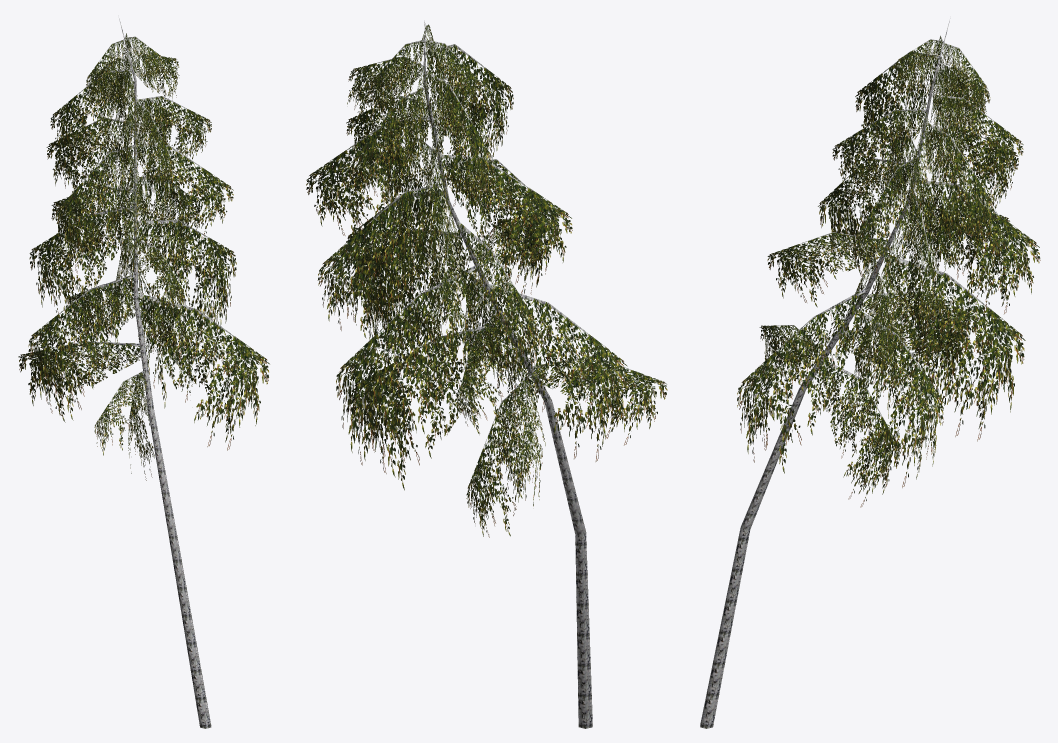
The model's file is birch_01.glb.
The picture shows the model from 3 angles, left to right: view 1: azimuth 30°, elevation 25°; view 2: azimuth 150°, elevation 25°; view 3: azimuth 270°, elevation 25°; orthographic projection. The views are drawn at different scales.
Parts seen in each view (by area): view 1: Birch_01; view 2: Birch_01; view 3: Birch_01.
Part boxes in pixels (x1,y1,x2,y2): Birch_01: (18,18,269,728); Birch_01: (306,20,667,728); Birch_01: (700,18,1040,728).
Size of the model in its own units: 1.04 by 2.92 by 1.26.
2 materials, 2 textured.
